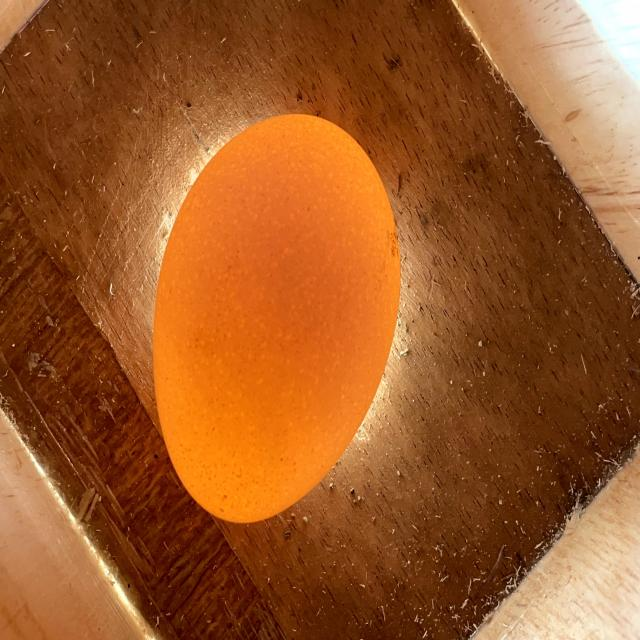infertile: (154, 115, 400, 522)
